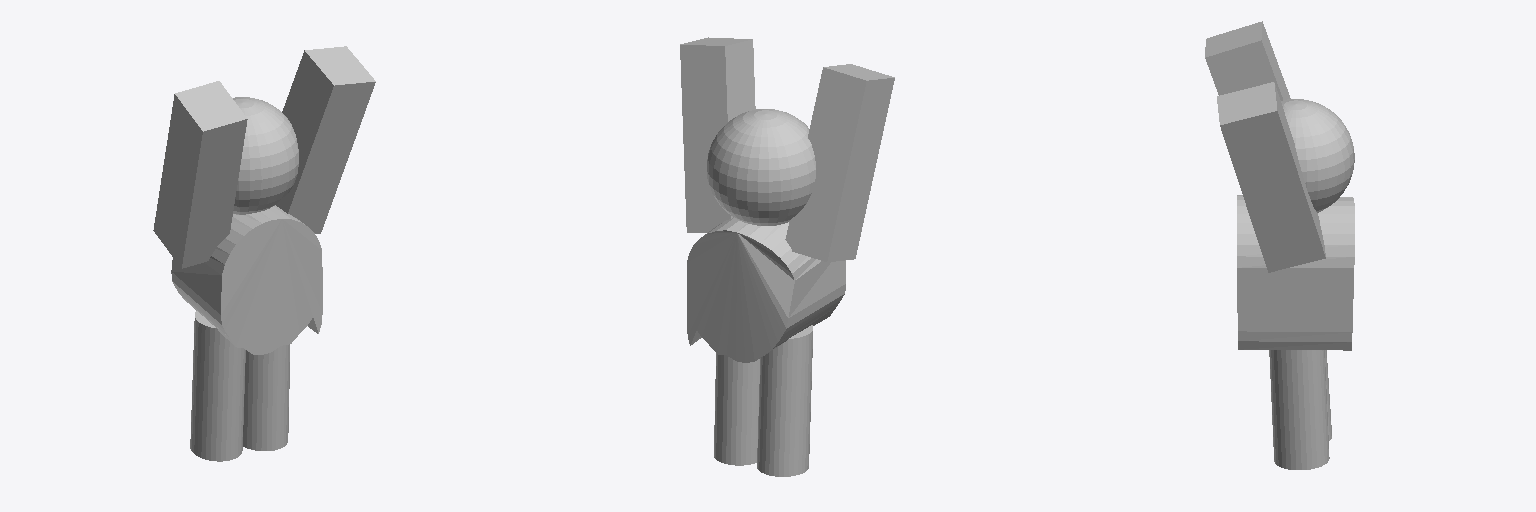
The model's file is Figurine166.obj.
3 views of the same model, side by side, from view 1: azimuth 30°, elevation 25°; view 2: azimuth 150°, elevation 25°; view 3: azimuth 270°, elevation 25° (orthographic).
Visible parts, largest first — view 1: Cylinder; view 2: Cylinder; view 3: Cylinder.
Boxes of the visible parts, x1,y1,x2,y2 form: Cylinder: [153, 46, 375, 461]; Cylinder: [680, 37, 894, 476]; Cylinder: [1205, 21, 1354, 469].
Size of the model in its own units: 3.52 by 7.33 by 2.54.